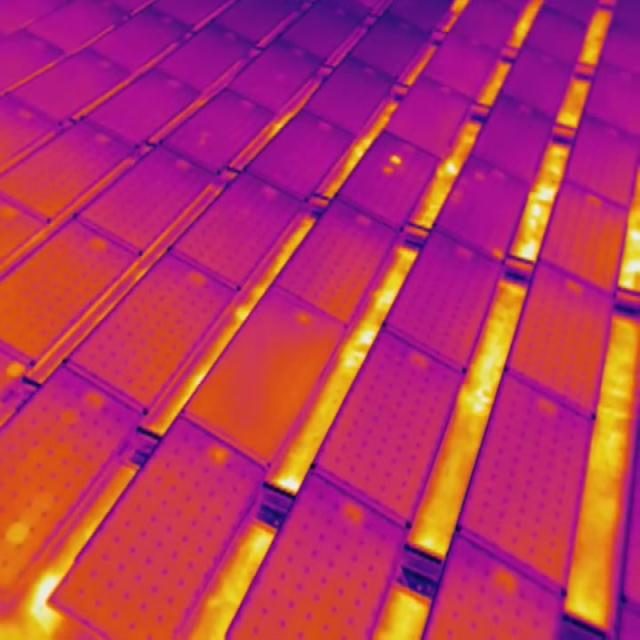Orange-Spots: (6, 520, 28, 548), (5, 361, 26, 382), (390, 152, 402, 166), (493, 246, 504, 261), (384, 165, 394, 175)
